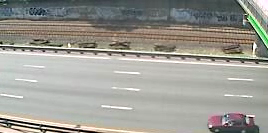car: (206, 112, 258, 133)
